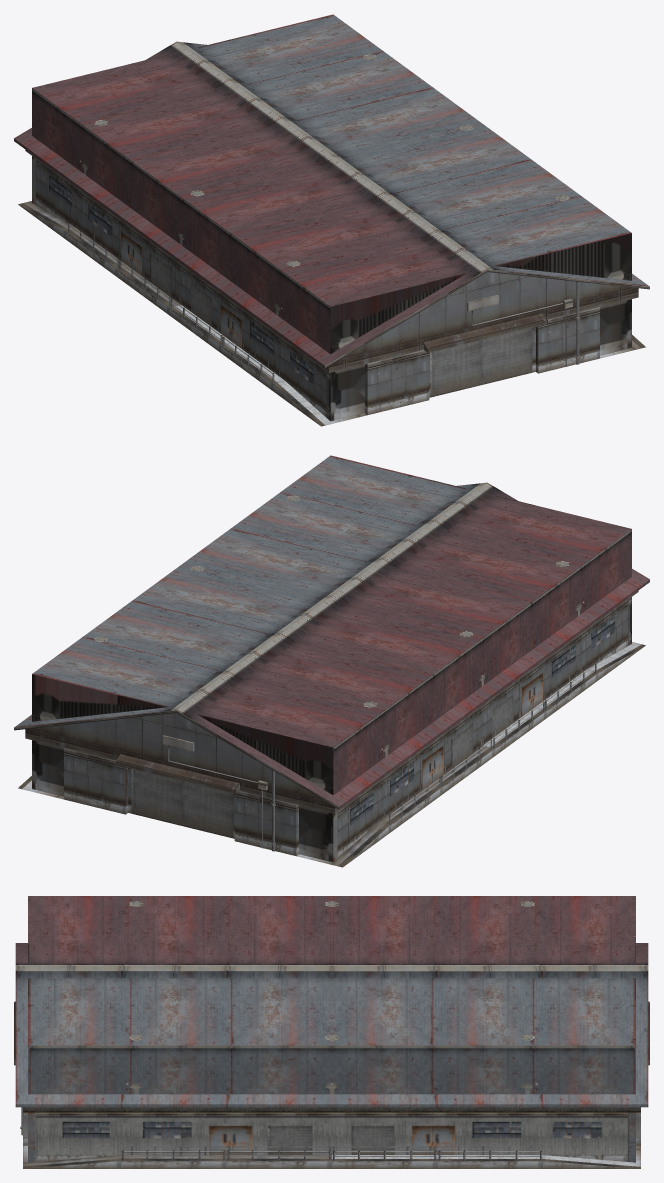
Rendered from dz_industrial_21.fbx.
The picture shows the model from 3 angles, top to bottom: view 1: azimuth 30°, elevation 25°; view 2: azimuth 150°, elevation 25°; view 3: azimuth 270°, elevation 25°; orthographic projection.
Visible parts, largest first — view 1: dz_industrial_21_LOD0; view 2: dz_industrial_21_LOD0; view 3: dz_industrial_21_LOD0.
Part boxes in pixels (x1,y1,x2,y2): dz_industrial_21_LOD0: (14,14,649,426); dz_industrial_21_LOD0: (14,455,649,867); dz_industrial_21_LOD0: (14,896,649,1168).
Size of what is drawn, in the model's own units: 33 by 11.68 by 54.94.
2 materials, 2 textured.
